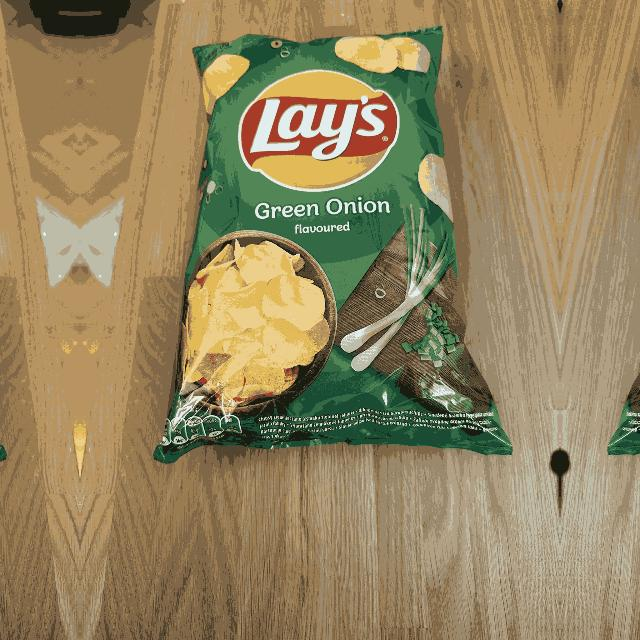lays: (239, 71, 401, 194)
